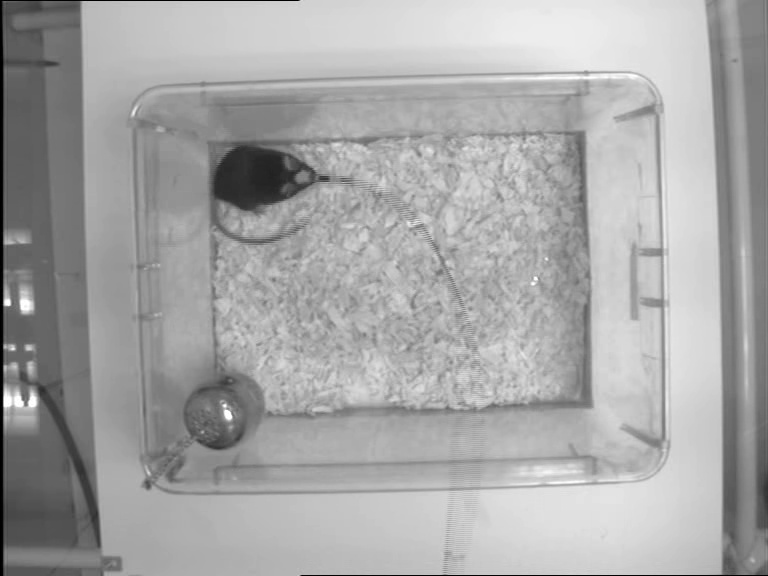mice: (209, 142, 320, 241)
